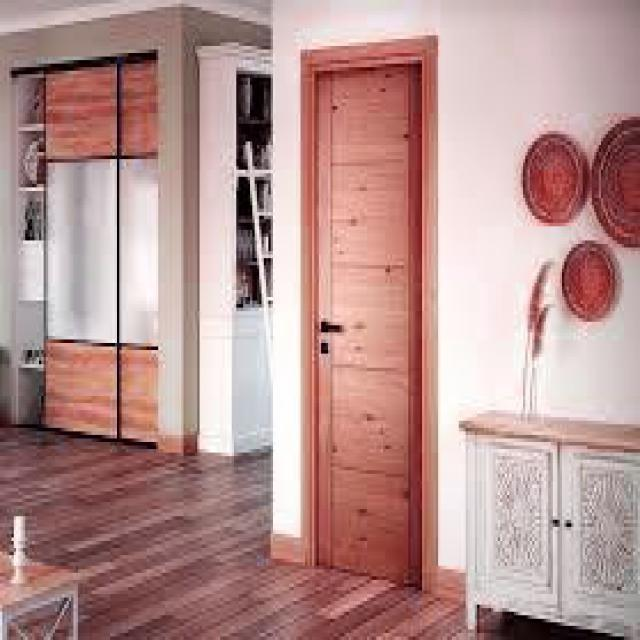door: (309, 53, 423, 588)
